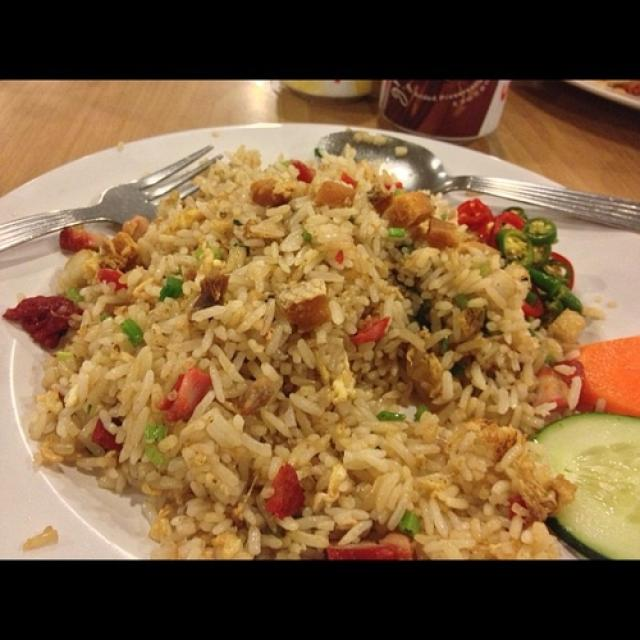米饭主食: (37, 128, 595, 552)
